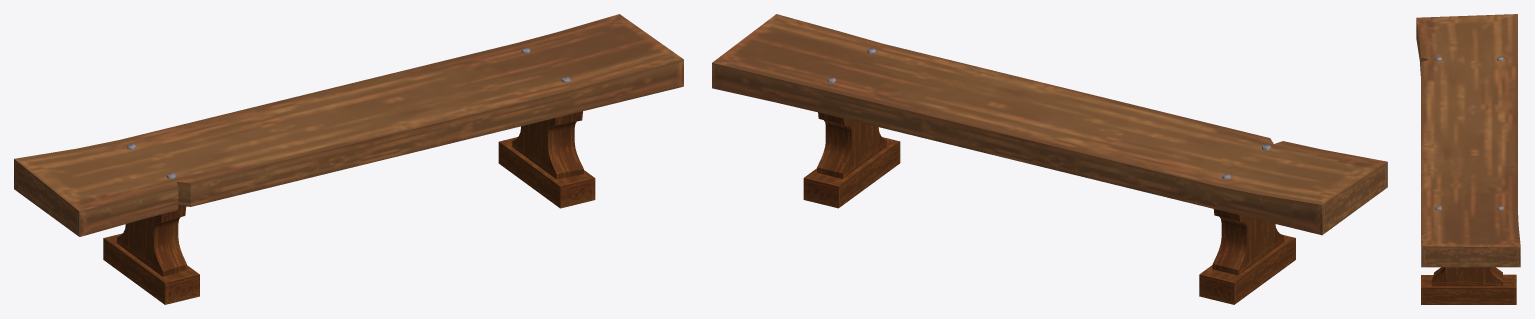
Rendered from bench.glb.
3 views of the same model, side by side, from view 1: azimuth 30°, elevation 25°; view 2: azimuth 150°, elevation 25°; view 3: azimuth 270°, elevation 25° (orthographic). The views are drawn at different scales.
Parts seen in each view (by area): view 1: Bench; view 2: Bench; view 3: Bench.
Part boxes in pixels (box(x1,y1,x2,y2)): Bench: box(14, 14, 683, 304); Bench: box(712, 14, 1387, 304); Bench: box(1416, 14, 1520, 304).
Size of the model in its own units: 2.78 by 0.5332 by 0.5343.
Materials: 2 (2 with a texture image).
